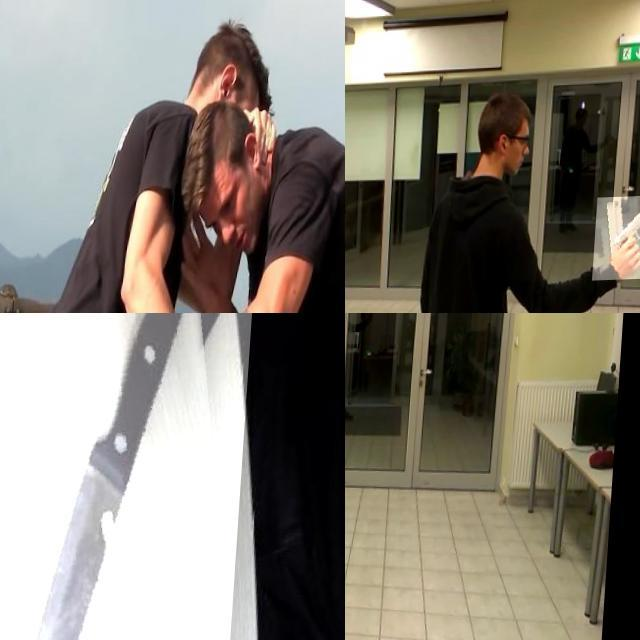-: (0, 313, 256, 640)
gun-knife-thesis - v11 Yolov5 augmented: (598, 199, 640, 283), (345, 326, 371, 384)
